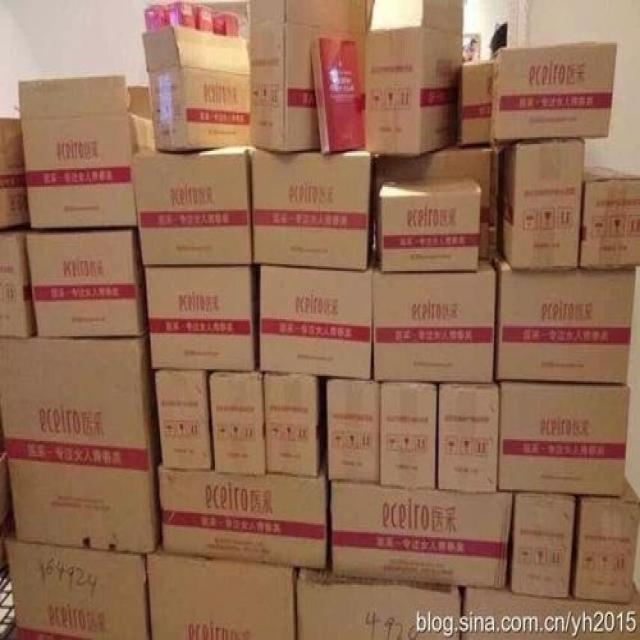box: (1, 333, 161, 552), (20, 74, 160, 226), (333, 480, 513, 589), (157, 458, 328, 570), (251, 0, 375, 149), (495, 259, 636, 384), (5, 523, 150, 638), (143, 3, 251, 153), (364, 2, 465, 158), (497, 381, 631, 498), (248, 146, 371, 273), (372, 259, 497, 383), (372, 141, 490, 266), (146, 542, 296, 640), (257, 261, 374, 381), (136, 146, 251, 266), (494, 39, 620, 146), (26, 230, 147, 338), (146, 263, 259, 371), (461, 575, 640, 640), (500, 137, 585, 269), (296, 570, 458, 638), (380, 175, 481, 275), (570, 472, 637, 601), (509, 494, 575, 601), (262, 371, 324, 477), (312, 34, 366, 154), (438, 384, 497, 492), (378, 383, 439, 486), (157, 365, 215, 472), (209, 369, 266, 477), (582, 165, 640, 269), (328, 383, 380, 480), (0, 117, 31, 230), (0, 232, 33, 338), (461, 55, 495, 141)
